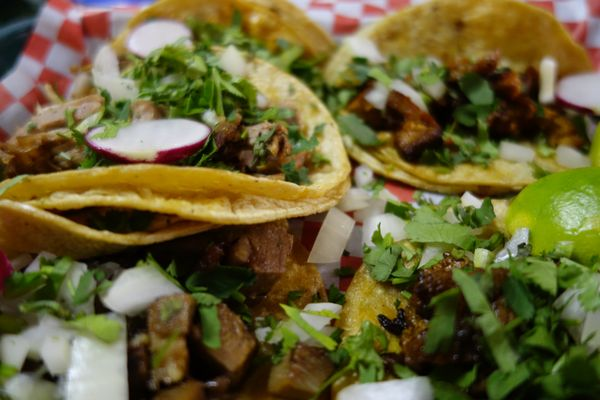soup: (0, 4, 354, 257), (314, 1, 598, 195)
